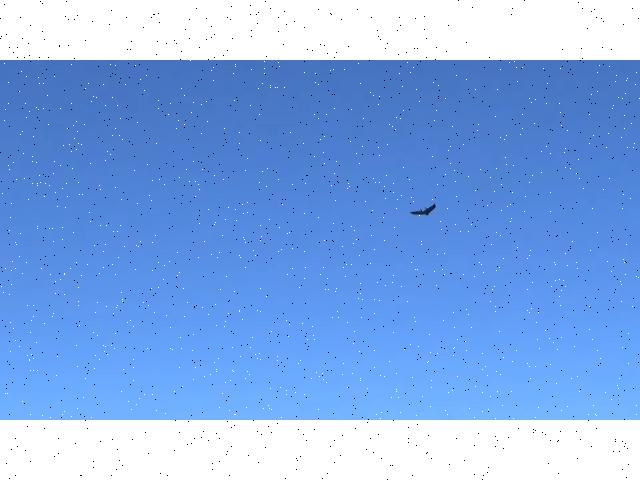Anti-Drone: (402, 196, 448, 226)
